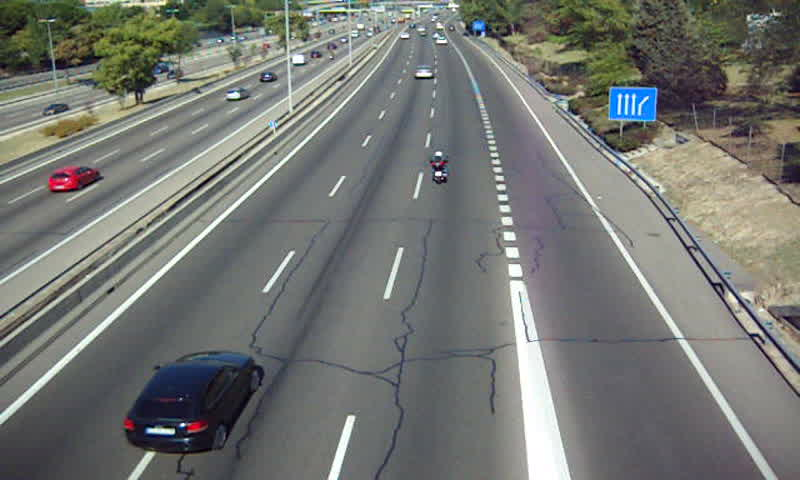car: (125, 351, 258, 451), (413, 66, 434, 82)
motorcycle: (430, 150, 450, 185)
